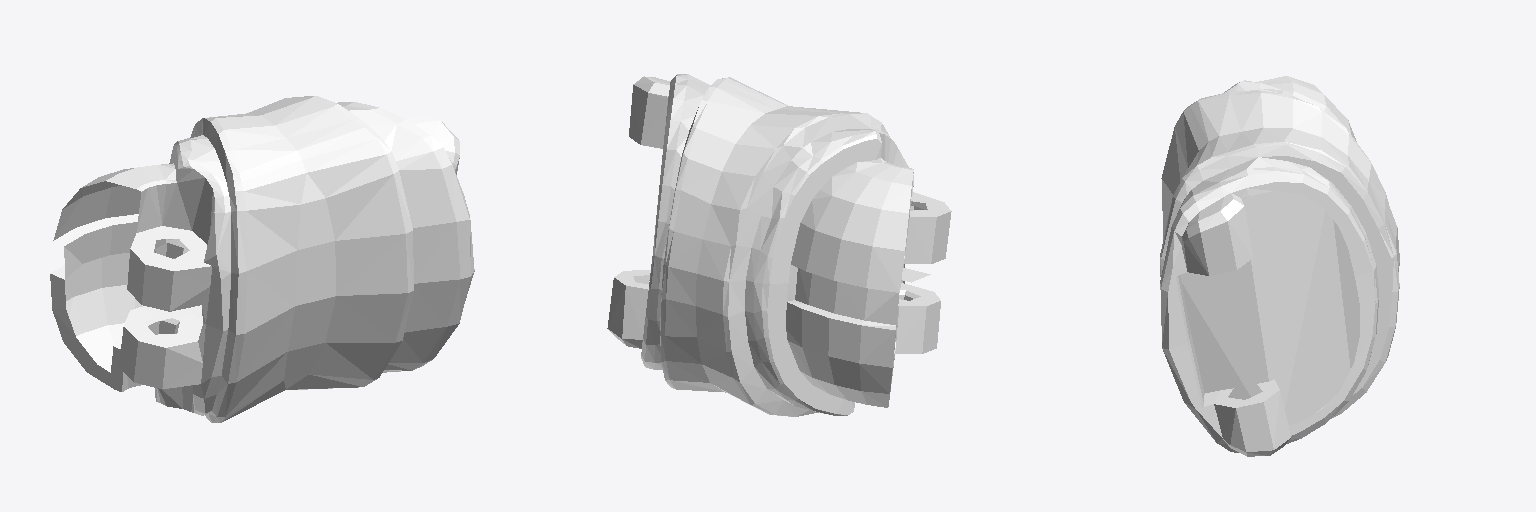
3 views of the same model, side by side, from view 1: azimuth 30°, elevation 25°; view 2: azimuth 150°, elevation 25°; view 3: azimuth 270°, elevation 25° (orthographic).
Parts seen in each view (by area): view 1: RFinger22_RPhalax_5; view 2: RFinger22_RPhalax_5; view 3: RFinger22_RPhalax_5.
Part boxes in pixels (x1,y1,x2,y2): RFinger22_RPhalax_5: (50,96,474,422); RFinger22_RPhalax_5: (607,74,951,416); RFinger22_RPhalax_5: (1160,76,1399,456).
Size of the model in its own units: 0.1938 by 0.1588 by 0.1204.
Materials: 1 (1 with a texture image).